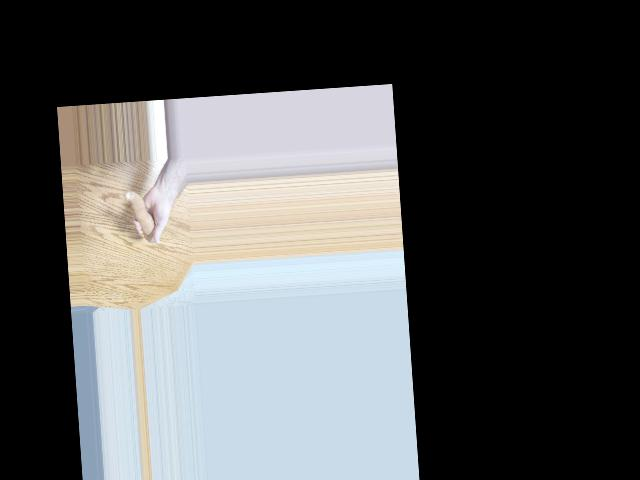sweet_potato: (126, 187, 158, 243)
